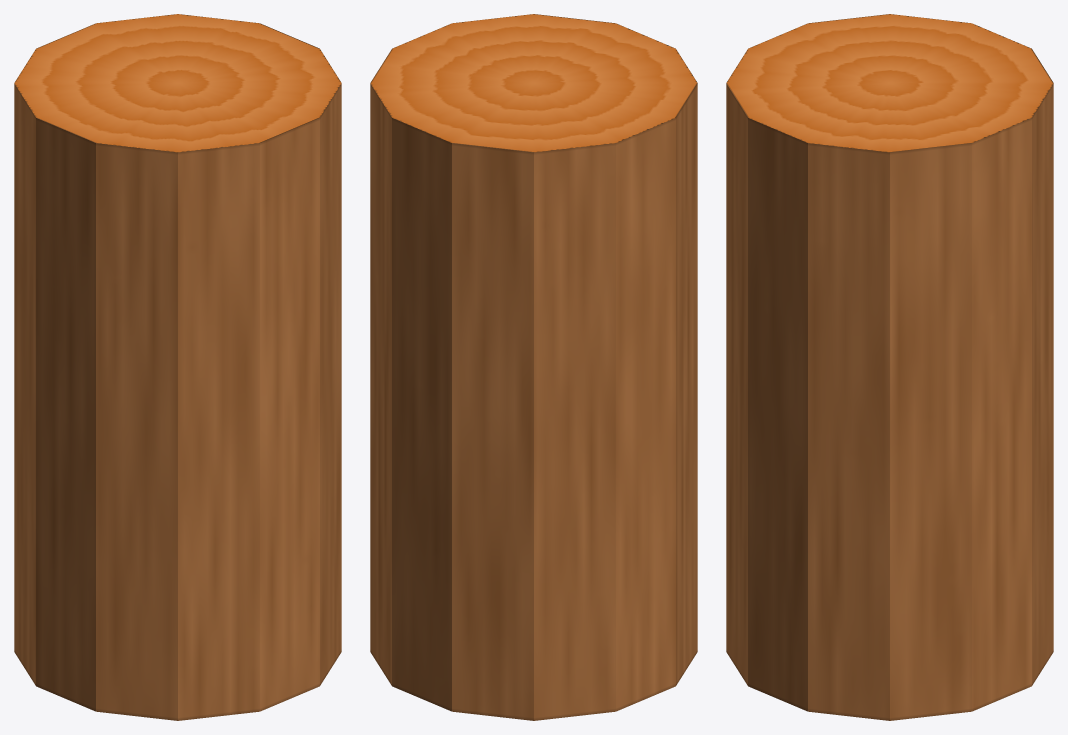
Rendered from Log.fbx.
The picture shows the model from 3 angles, left to right: view 1: azimuth 30°, elevation 25°; view 2: azimuth 150°, elevation 25°; view 3: azimuth 270°, elevation 25°; orthographic projection.
Parts seen in each view (by area): view 1: Cylinder; view 2: Cylinder; view 3: Cylinder.
Part boxes in pixels (x1,y1,x2,y2): Cylinder: [14, 14, 341, 720]; Cylinder: [370, 14, 697, 720]; Cylinder: [726, 14, 1053, 720].
Bounding box in the file's own units: 200 × 383 × 200.
